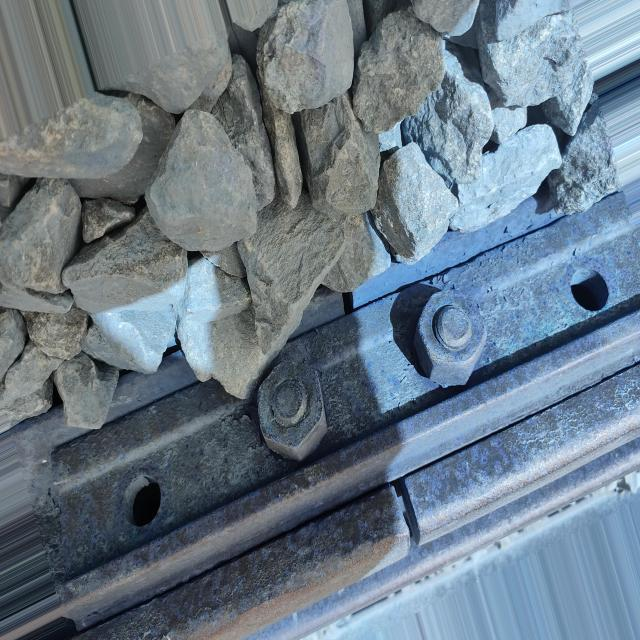Defective Joint: (48, 187, 640, 630)
